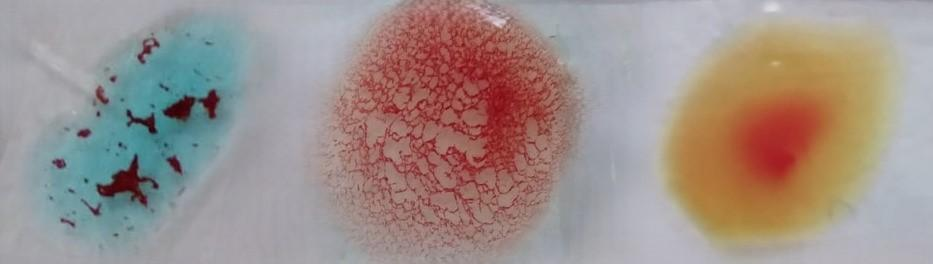A: (38, 11, 250, 257)
D: (324, 7, 572, 260)
